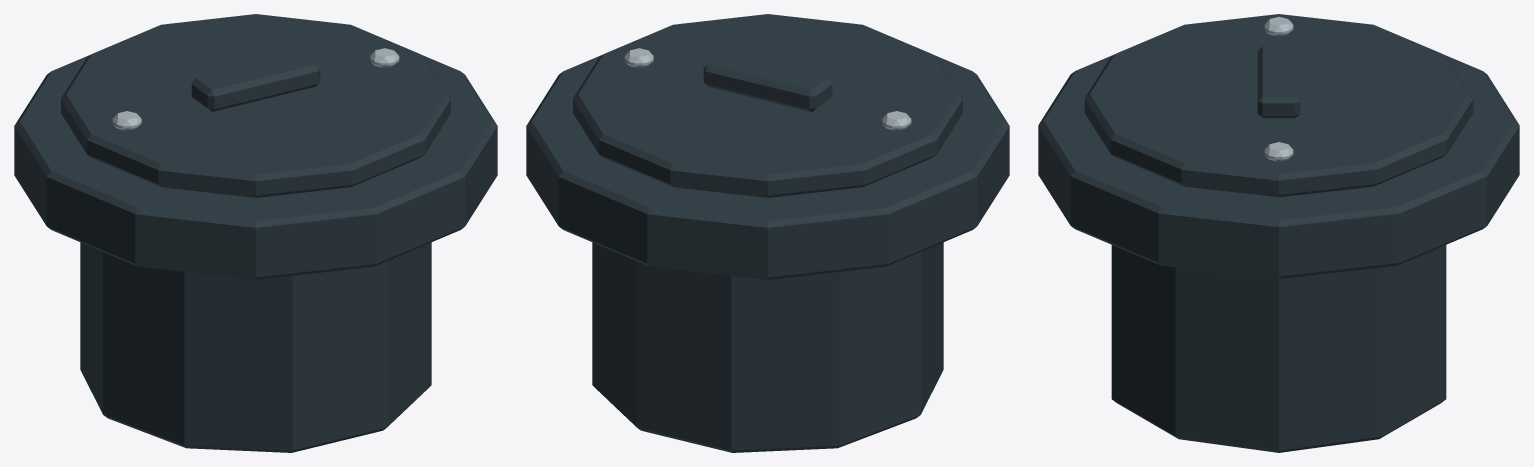
The model's file is b05_curb_stop_valve_cover.glb.
3 renders of one model, left to right at view 1: azimuth 30°, elevation 25°; view 2: azimuth 150°, elevation 25°; view 3: azimuth 270°, elevation 25°, orthographic.
Visible parts, largest first — view 1: b05_curb_stop_valve_cover; view 2: b05_curb_stop_valve_cover; view 3: b05_curb_stop_valve_cover.
Boxes of the visible parts, box(x1,y1,x2,y2) form: b05_curb_stop_valve_cover: box(14, 14, 497, 452); b05_curb_stop_valve_cover: box(526, 14, 1009, 452); b05_curb_stop_valve_cover: box(1038, 14, 1519, 452).
Bounding box in the file's own units: 0.26 × 0.1845 × 0.26.
